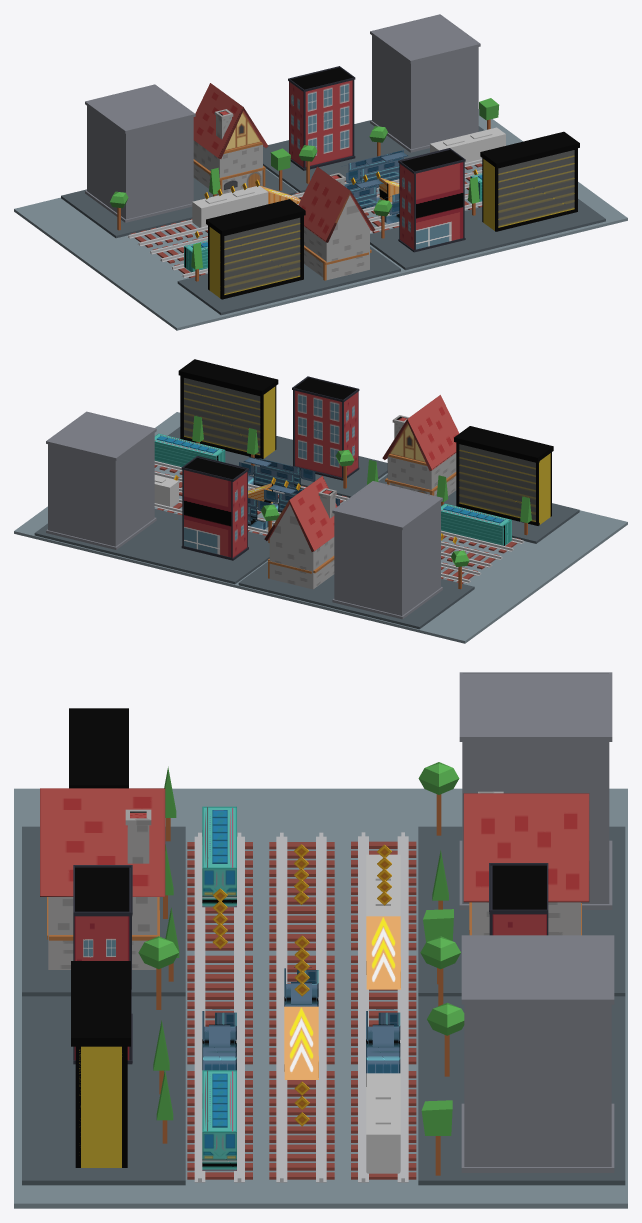
File: kit 3.fbx
3 renders of one model, top to bottom at view 1: azimuth 30°, elevation 25°; view 2: azimuth 150°, elevation 25°; view 3: azimuth 270°, elevation 25°, orthographic. The views are drawn at different scales.
Parts seen in each view (by area): view 1: ground, Cube.021, Cube.026, Cube.027, Cube.007, Cube.012, Cylinder.002, Cube.025, Cylinder.001, Cube.008, Cube.011, Cube.022 (+8 smaller); view 2: Cube.026, Cube.021, ground, Cube.027, Cube.007, Cube.025, Cylinder.001, Cube.012, Cylinder.002, Cube.009, Cube.022, Cube.008 (+10 smaller); view 3: ground, Cube.026, Cube.021, Cube.008, Cylinder.002, Cylinder.001, Cube.007, Cube.009, Cube.022, Cube.011, Cube.006, Cube.023 (+25 smaller).
Boxes of the visible parts, left/top/right/bottom form: ground: left=14, top=109, right=627, bottom=330; Cube.021: left=85, top=84, right=195, bottom=222; Cube.026: left=370, top=14, right=480, bottom=152; Cube.027: left=206, top=199, right=305, bottom=299; Cube.007: left=480, top=131, right=579, bottom=231; Cube.012: left=398, top=148, right=465, bottom=252; Cylinder.002: left=298, top=166, right=375, bottom=280; Cube.025: left=288, top=66, right=355, bottom=170; Cylinder.001: left=193, top=83, right=268, bottom=195; Cube.008: left=370, top=199, right=605, bottom=270; Cube.011: left=177, top=246, right=400, bottom=315; Cube.022: left=61, top=169, right=296, bottom=238; Cube.026: left=46, top=411, right=156, bottom=549; Cube.021: left=332, top=481, right=442, bottom=619; ground: left=14, top=412, right=627, bottom=643; Cube.027: left=454, top=426, right=553, bottom=525; Cube.007: left=178, top=359, right=278, bottom=458; Cube.025: left=181, top=456, right=248, bottom=560; Cylinder.001: left=264, top=476, right=337, bottom=589; Cube.012: left=292, top=376, right=359, bottom=480; Cylinder.002: left=382, top=395, right=459, bottom=496; Cube.009: left=34, top=509, right=269, bottom=584; Cube.022: left=238, top=561, right=474, bottom=629; Cube.008: left=168, top=427, right=387, bottom=497; ground: left=14, top=788, right=627, bottom=1208; Cube.026: left=461, top=935, right=614, bottom=1172; Cube.021: left=459, top=672, right=612, bottom=909; Cube.008: left=22, top=996, right=185, bottom=1185; Cylinder.002: left=40, top=788, right=165, bottom=969; Cylinder.001: left=463, top=791, right=589, bottom=935; Cube.007: left=71, top=961, right=130, bottom=1167; Cube.009: left=418, top=996, right=625, bottom=1185; Cube.022: left=418, top=826, right=625, bottom=996; Cube.011: left=22, top=826, right=185, bottom=996; Cube.006: left=269, top=1061, right=334, bottom=1182; Cube.023: left=269, top=832, right=334, bottom=952.
Size of the model in its own units: 3600 by 739 by 2252.
